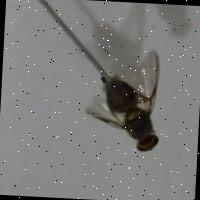Oriental-fruit-fly: (78, 41, 170, 161)
